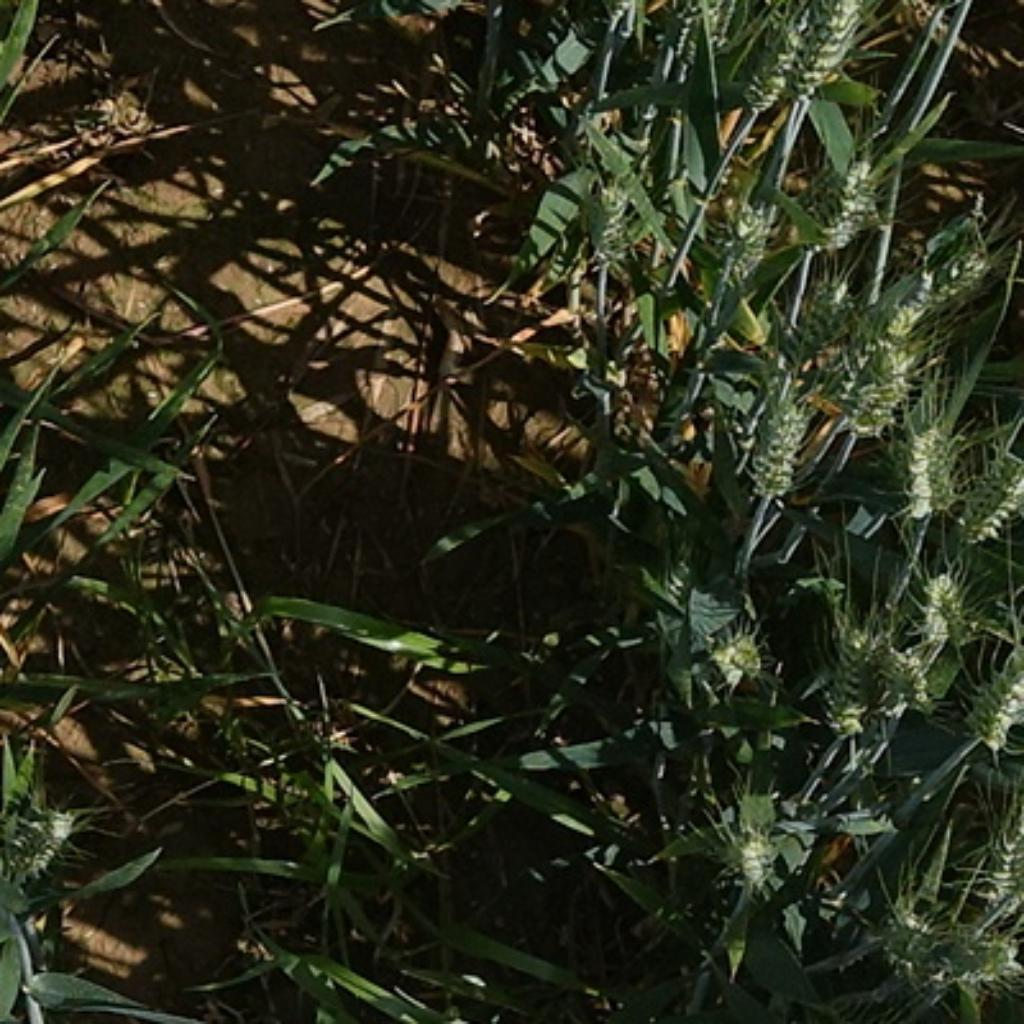0-0: (848, 266, 934, 398), (739, 366, 811, 504), (911, 931, 1021, 1008), (949, 440, 1024, 547), (799, 158, 887, 248), (896, 412, 970, 517), (824, 604, 880, 742), (852, 345, 932, 438), (7, 796, 83, 891), (742, 5, 806, 117), (960, 637, 1024, 744), (803, 272, 875, 358), (713, 198, 776, 296), (908, 563, 980, 645), (870, 642, 944, 721), (872, 906, 957, 972), (809, 0, 868, 90), (977, 802, 1024, 903), (584, 176, 639, 262), (704, 622, 770, 686), (939, 240, 995, 314), (730, 833, 792, 897)
